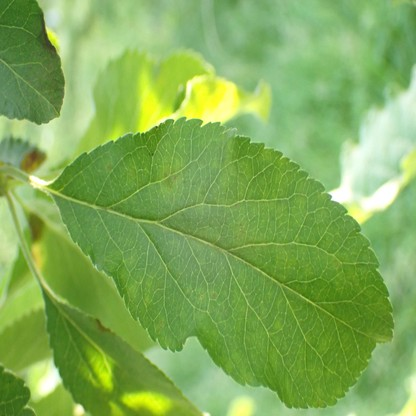scab: (87, 118, 393, 409), (25, 15, 59, 91)
